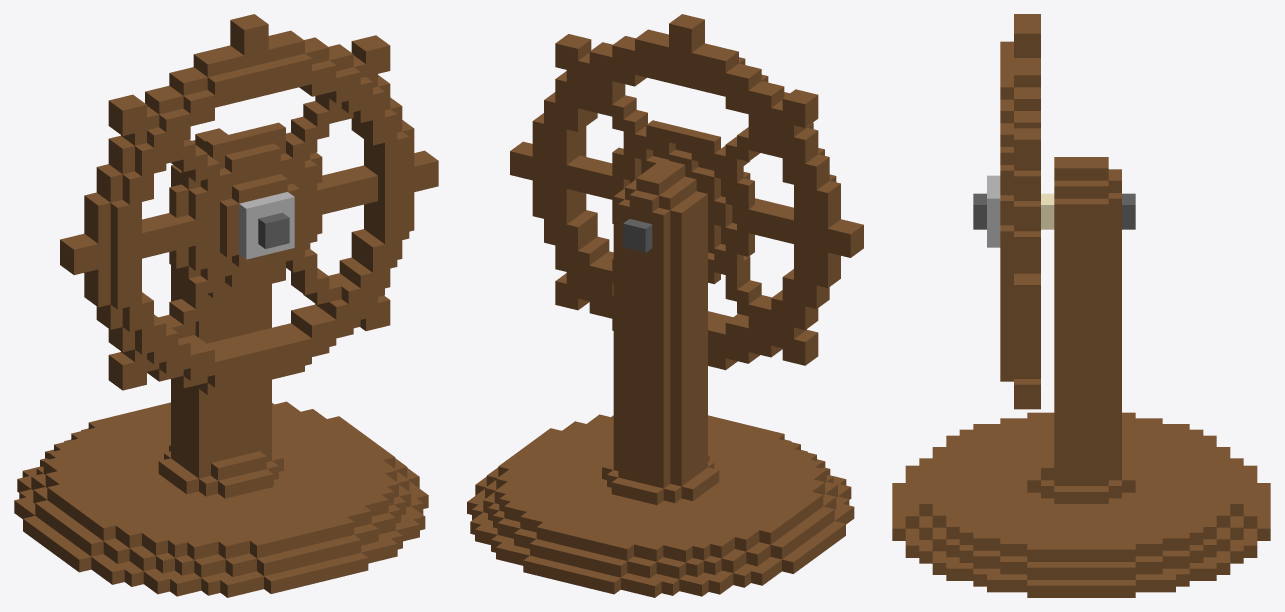
Rendered from Steering Wheel.obj.
3 views of the same model, side by side, from view 1: azimuth 30°, elevation 25°; view 2: azimuth 150°, elevation 25°; view 3: azimuth 270°, elevation 25° (orthographic). The views are drawn at different scales.
Parts seen in each view (by area): view 1: Steering Wheel; view 2: Steering Wheel; view 3: Steering Wheel.
Boxes of the visible parts, box(x1,y1,x2,y2) form: Steering Wheel: box(14, 14, 438, 597); Steering Wheel: box(467, 14, 863, 597); Steering Wheel: box(892, 14, 1270, 597).
Bounding box in the file's own units: 30 × 40 × 28.
Materials: 1 (1 with a texture image).
